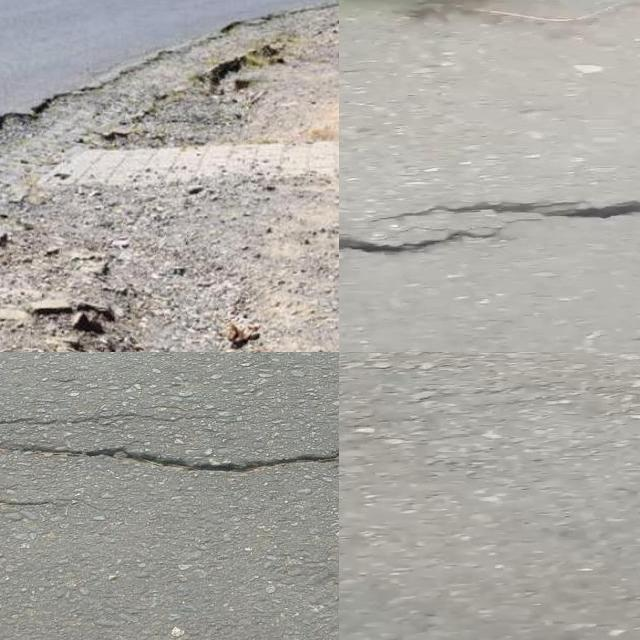Melintang: (0, 427, 339, 499), (339, 189, 640, 268)
Pinggir: (0, 0, 339, 265)
